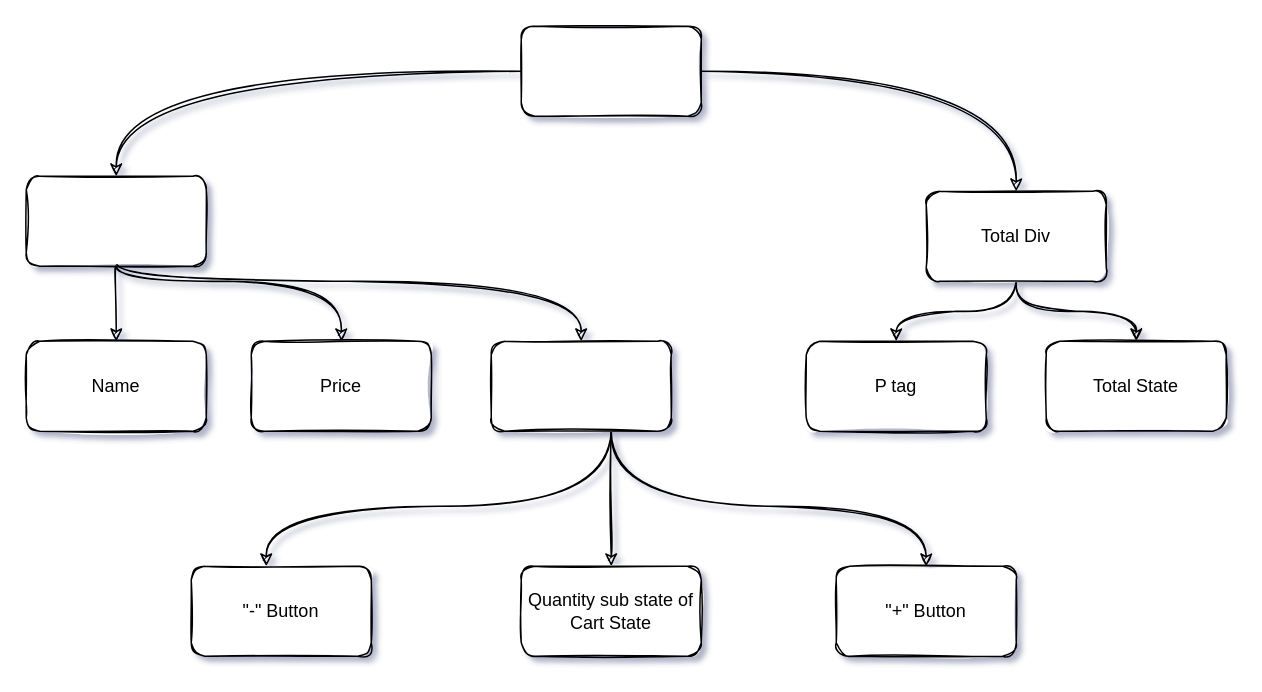
The diagram is 1262 pixels wide and 692 high, and some of its shapes have lost their labels. The centre of each missing label's shape, as x and y in pixels:
"CartItems" goes at pixel 115 220.
"Container" goes at pixel 610 70.
"Quantity Div" goes at pixel 580 385.
